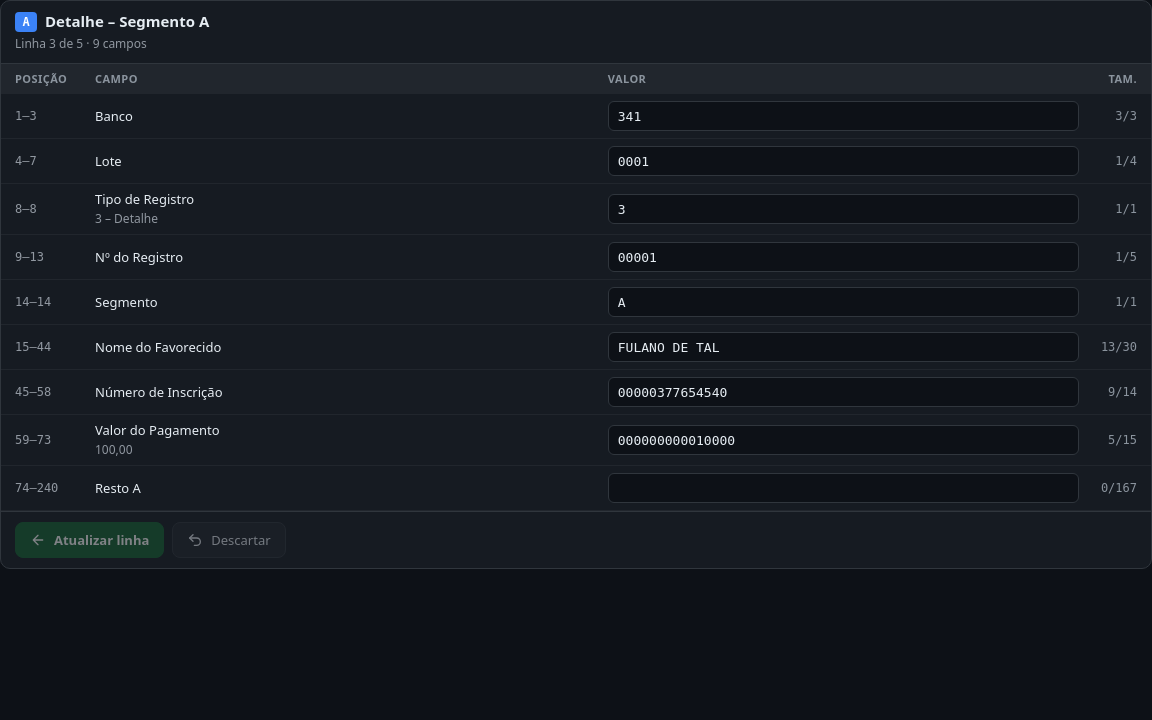
Test case: EditPane (edição) › opção inválida só aparece ao sair do campo; corrigir e sair remove
Replace the text in the field labelled "Tipo de Registro" with "8" at (843, 209), box top-left (608, 194), bottom-right (1079, 224)
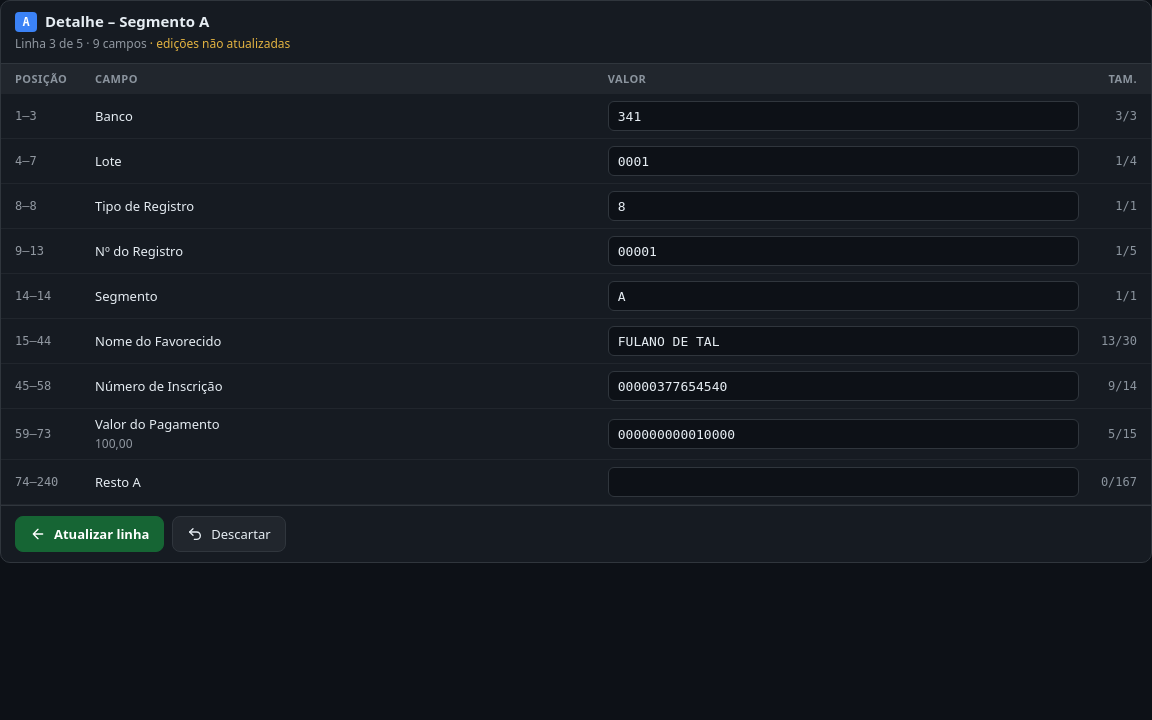
Leave the field labelled "Tipo de Registro", box top-left (608, 191), bottom-right (1079, 221)
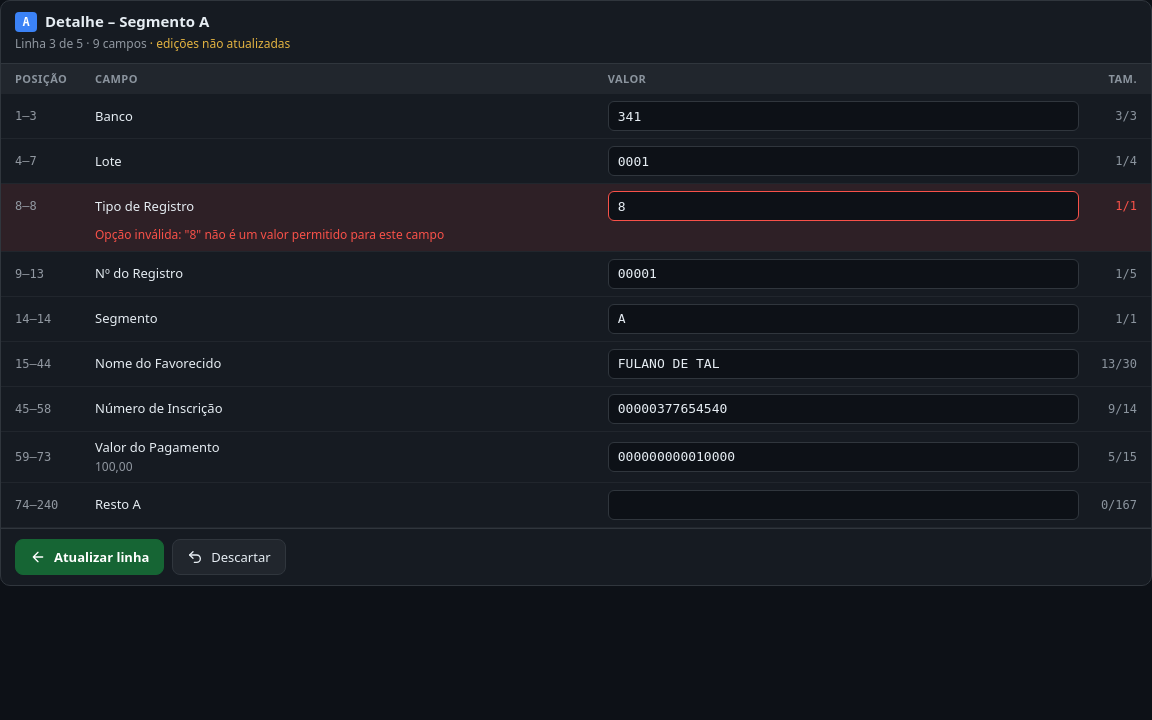
Expected: the message with test id "field-error" reads "Opção inválida: \"8\" não é um valor permitido para este campo", top-left (95, 226), bottom-right (444, 243)
Replace the text in the field labelled "Tipo de Registro" with "3" at (843, 206), box top-left (608, 191), bottom-right (1079, 221)
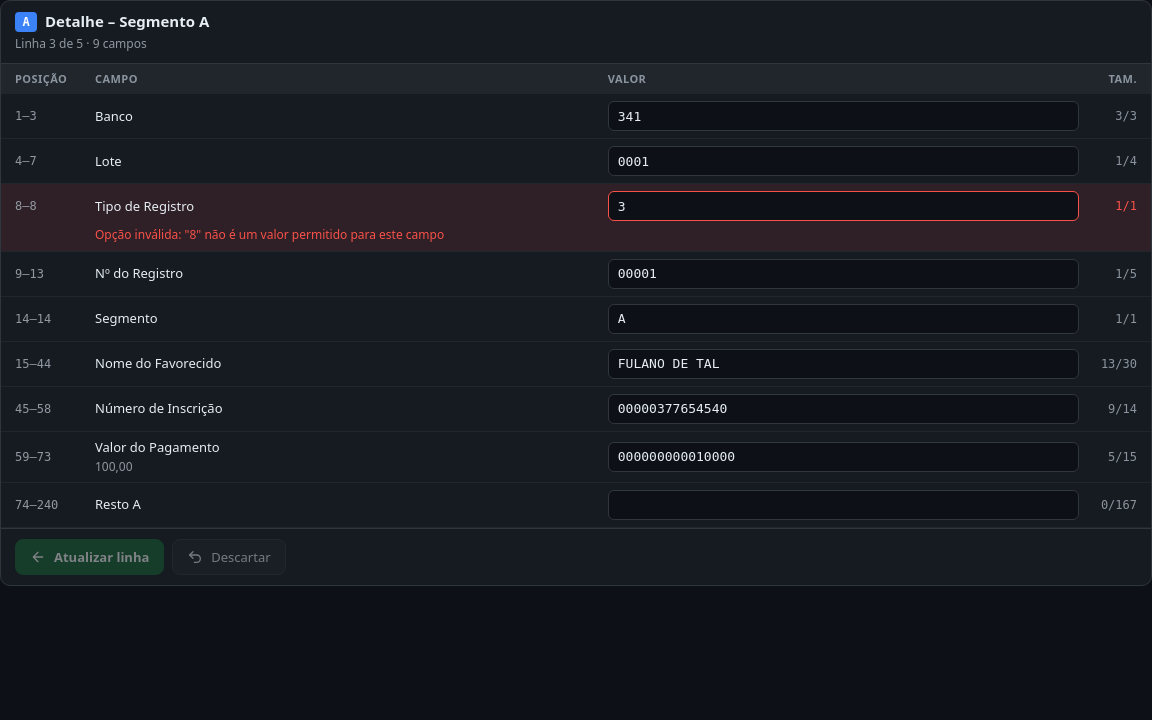
Leave the field labelled "Tipo de Registro", box top-left (608, 191), bottom-right (1079, 221)
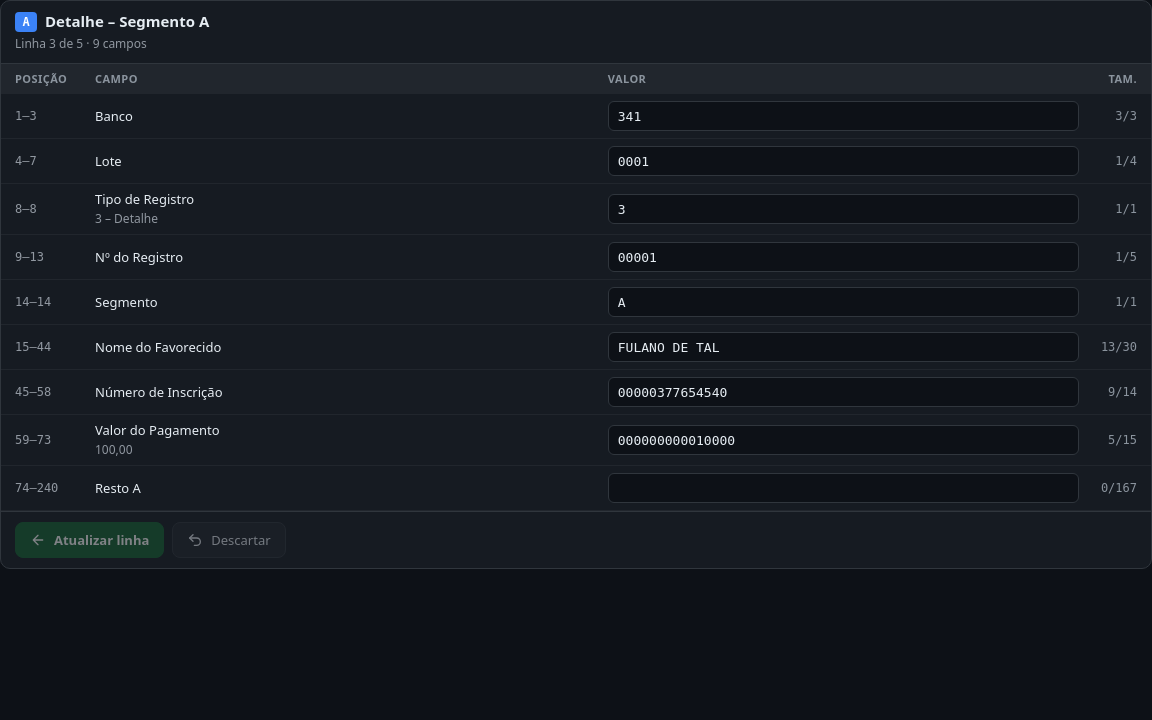
Expected: the message with test id "field-error" is gone
